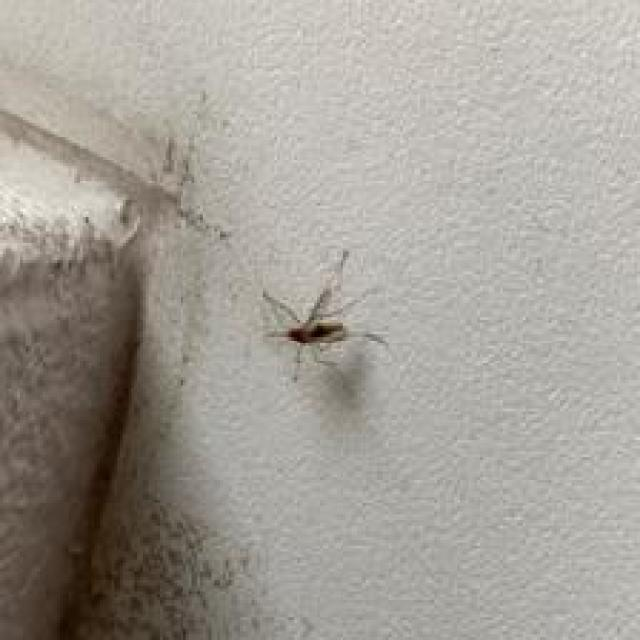Culex: (259, 247, 390, 382)
